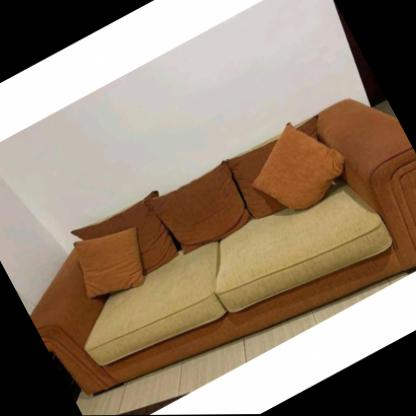Ceramic floor: (76, 287, 382, 416)
Sofa: (4, 70, 416, 416)
